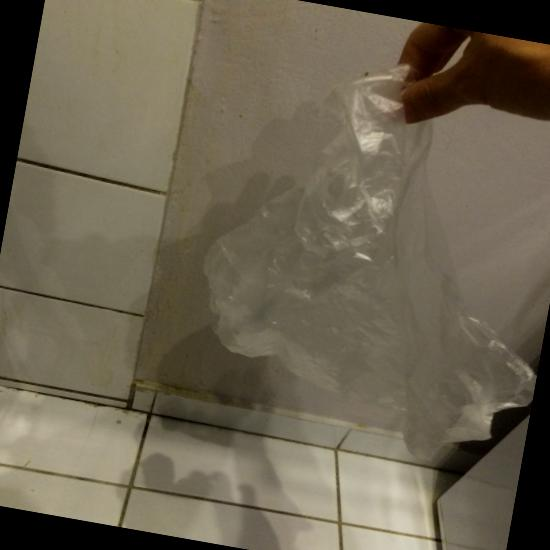Plastic film: (203, 63, 537, 460)
